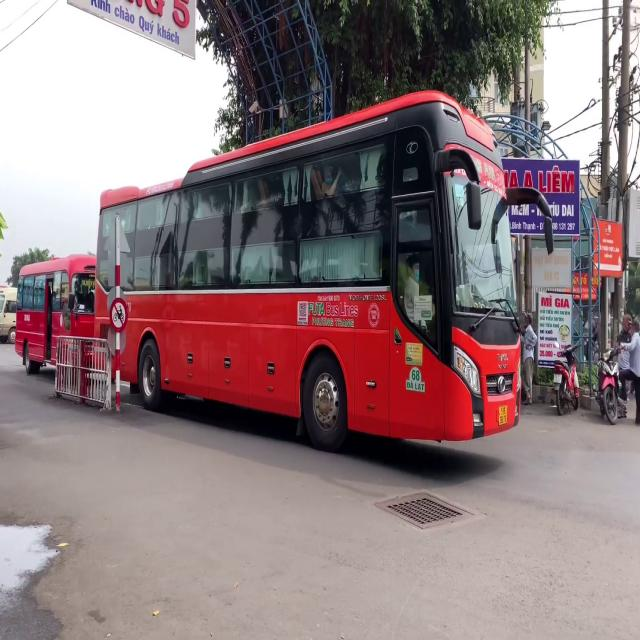bien_vang: (498, 406, 508, 425)
